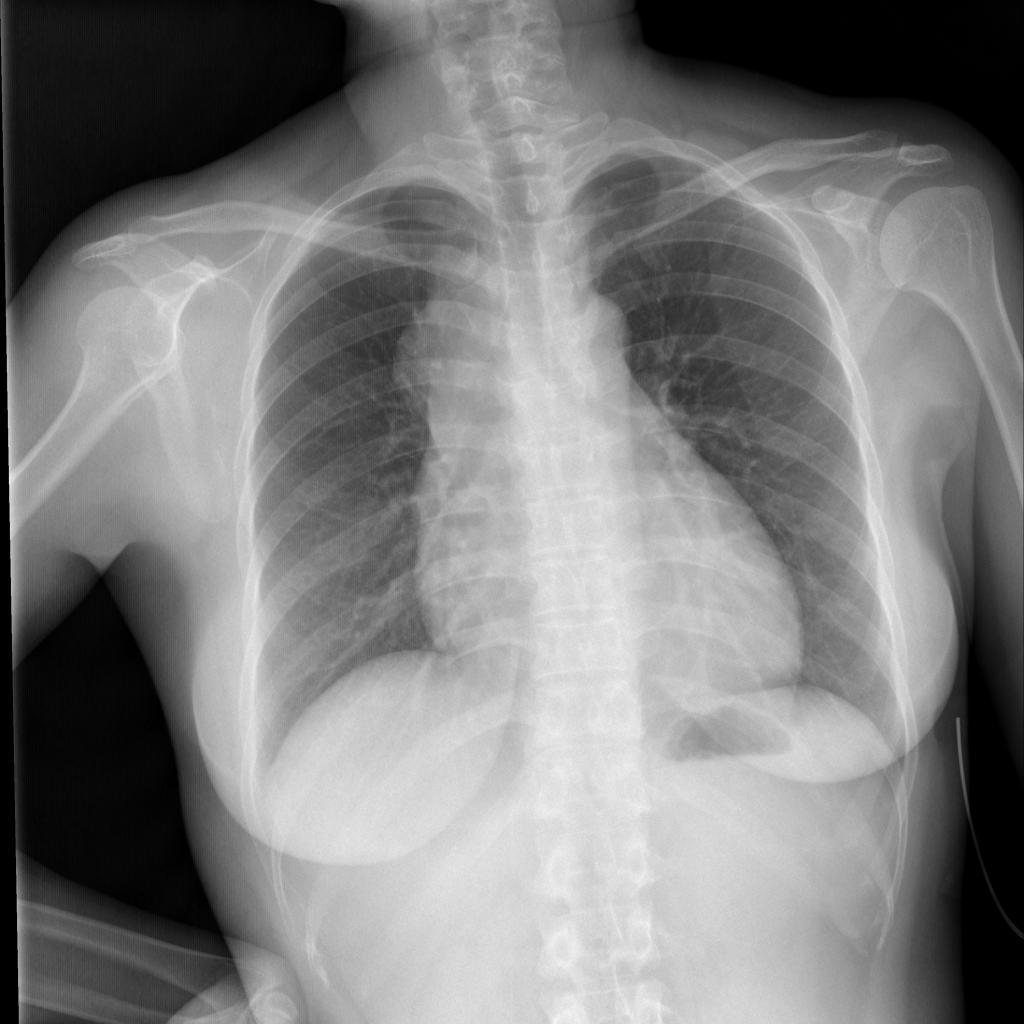Nodule: (386, 281, 516, 422)
